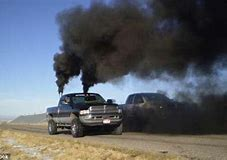smoke: (51, 1, 226, 89), (123, 90, 227, 135)
